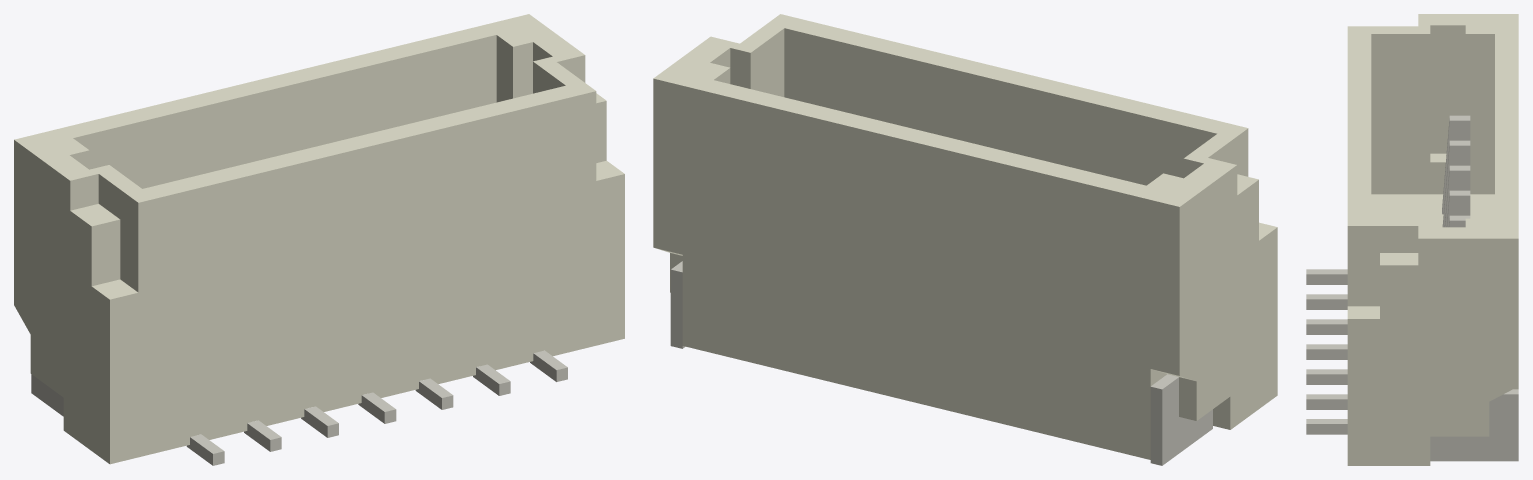
Rendered from kc-jst_sh_bm07b-srss-tb_1x07-1mp_p1.00mm_vertical.glb.
3 renders of one model, left to right at view 1: azimuth 30°, elevation 25°; view 2: azimuth 150°, elevation 25°; view 3: azimuth 270°, elevation 25°, orthographic. The views are drawn at different scales.
Parts seen in each view (by area): view 1: 0.75_0.75_0.6666666666666666_0, 0.6666666666666666_0.6666666666666666_0.5833333333333334_0.8; view 2: 0.75_0.75_0.6666666666666666_0, 0.6666666666666666_0.6666666666666666_0.5833333333333334_0.8; view 3: 0.75_0.75_0.6666666666666666_0, 0.6666666666666666_0.6666666666666666_0.5833333333333334_0.8.
Boxes of the visible parts, x1,y1,x2,y2 form: 0.75_0.75_0.6666666666666666_0: [14, 14, 624, 464]; 0.6666666666666666_0.6666666666666666_0.5833333333333334_0.8: [31, 350, 567, 465]; 0.75_0.75_0.6666666666666666_0: [653, 14, 1277, 459]; 0.6666666666666666_0.6666666666666666_0.5833333333333334_0.8: [670, 261, 1212, 465]; 0.75_0.75_0.6666666666666666_0: [1347, 14, 1518, 465]; 0.6666666666666666_0.6666666666666666_0.5833333333333334_0.8: [1306, 115, 1518, 461].
Size of the model in its own units: 0.9 by 0.432 by 0.36.
